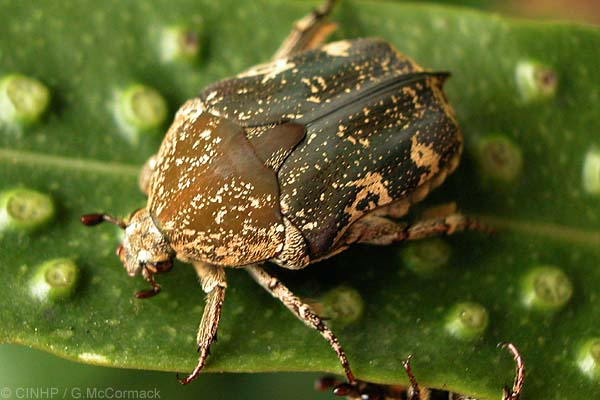Protaetia_fusca: (79, 6, 476, 385)
